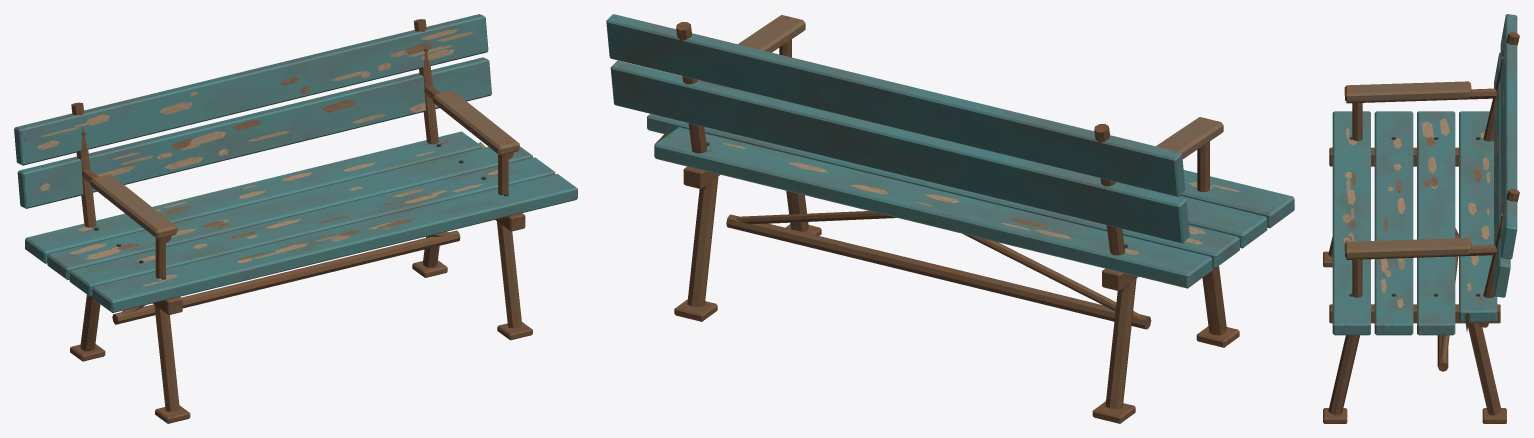
File: R15_park_bench.glb
The picture shows the model from 3 angles, left to right: view 1: azimuth 30°, elevation 25°; view 2: azimuth 150°, elevation 25°; view 3: azimuth 270°, elevation 25°; orthographic projection. The views are drawn at different scales.
Visible parts, largest first — view 1: Seat plank; view 2: Seat plank; view 3: Seat plank.
Part boxes in pixels (x1=…): Seat plank: x1=14, y1=14, x2=577, y2=423; Seat plank: x1=606, y1=14, x2=1294, y2=423; Seat plank: x1=1323, y1=14, x2=1519, y2=423.
Bounding box in the file's own units: 1.8 × 0.8994 × 0.7012.
5 materials, 5 textured.
